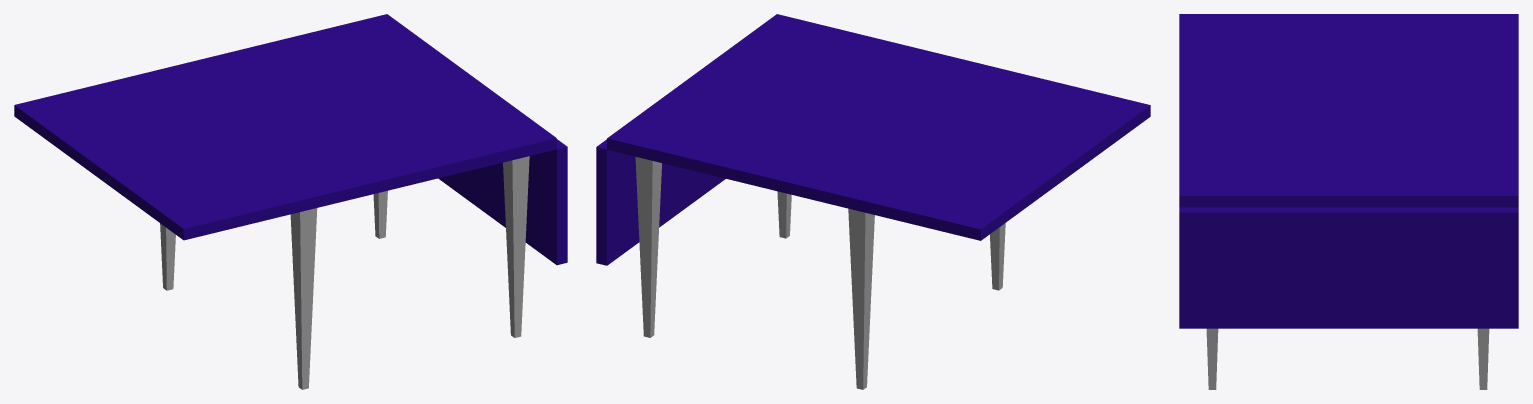
File: Furniture_TABLE_DINING.fbx
3 renders of one model, left to right at view 1: azimuth 30°, elevation 25°; view 2: azimuth 150°, elevation 25°; view 3: azimuth 270°, elevation 25°, orthographic.
Visible parts, largest first — view 1: Furn_TABLE1; view 2: Furn_TABLE1; view 3: Furn_TABLE1.
Boxes of the visible parts, x1,y1,x2,y2 form: Furn_TABLE1: (14,14,567,389); Furn_TABLE1: (596,14,1150,389); Furn_TABLE1: (1179,14,1518,389).
Bounding box in the file's own units: 146 × 74.38 × 112.
